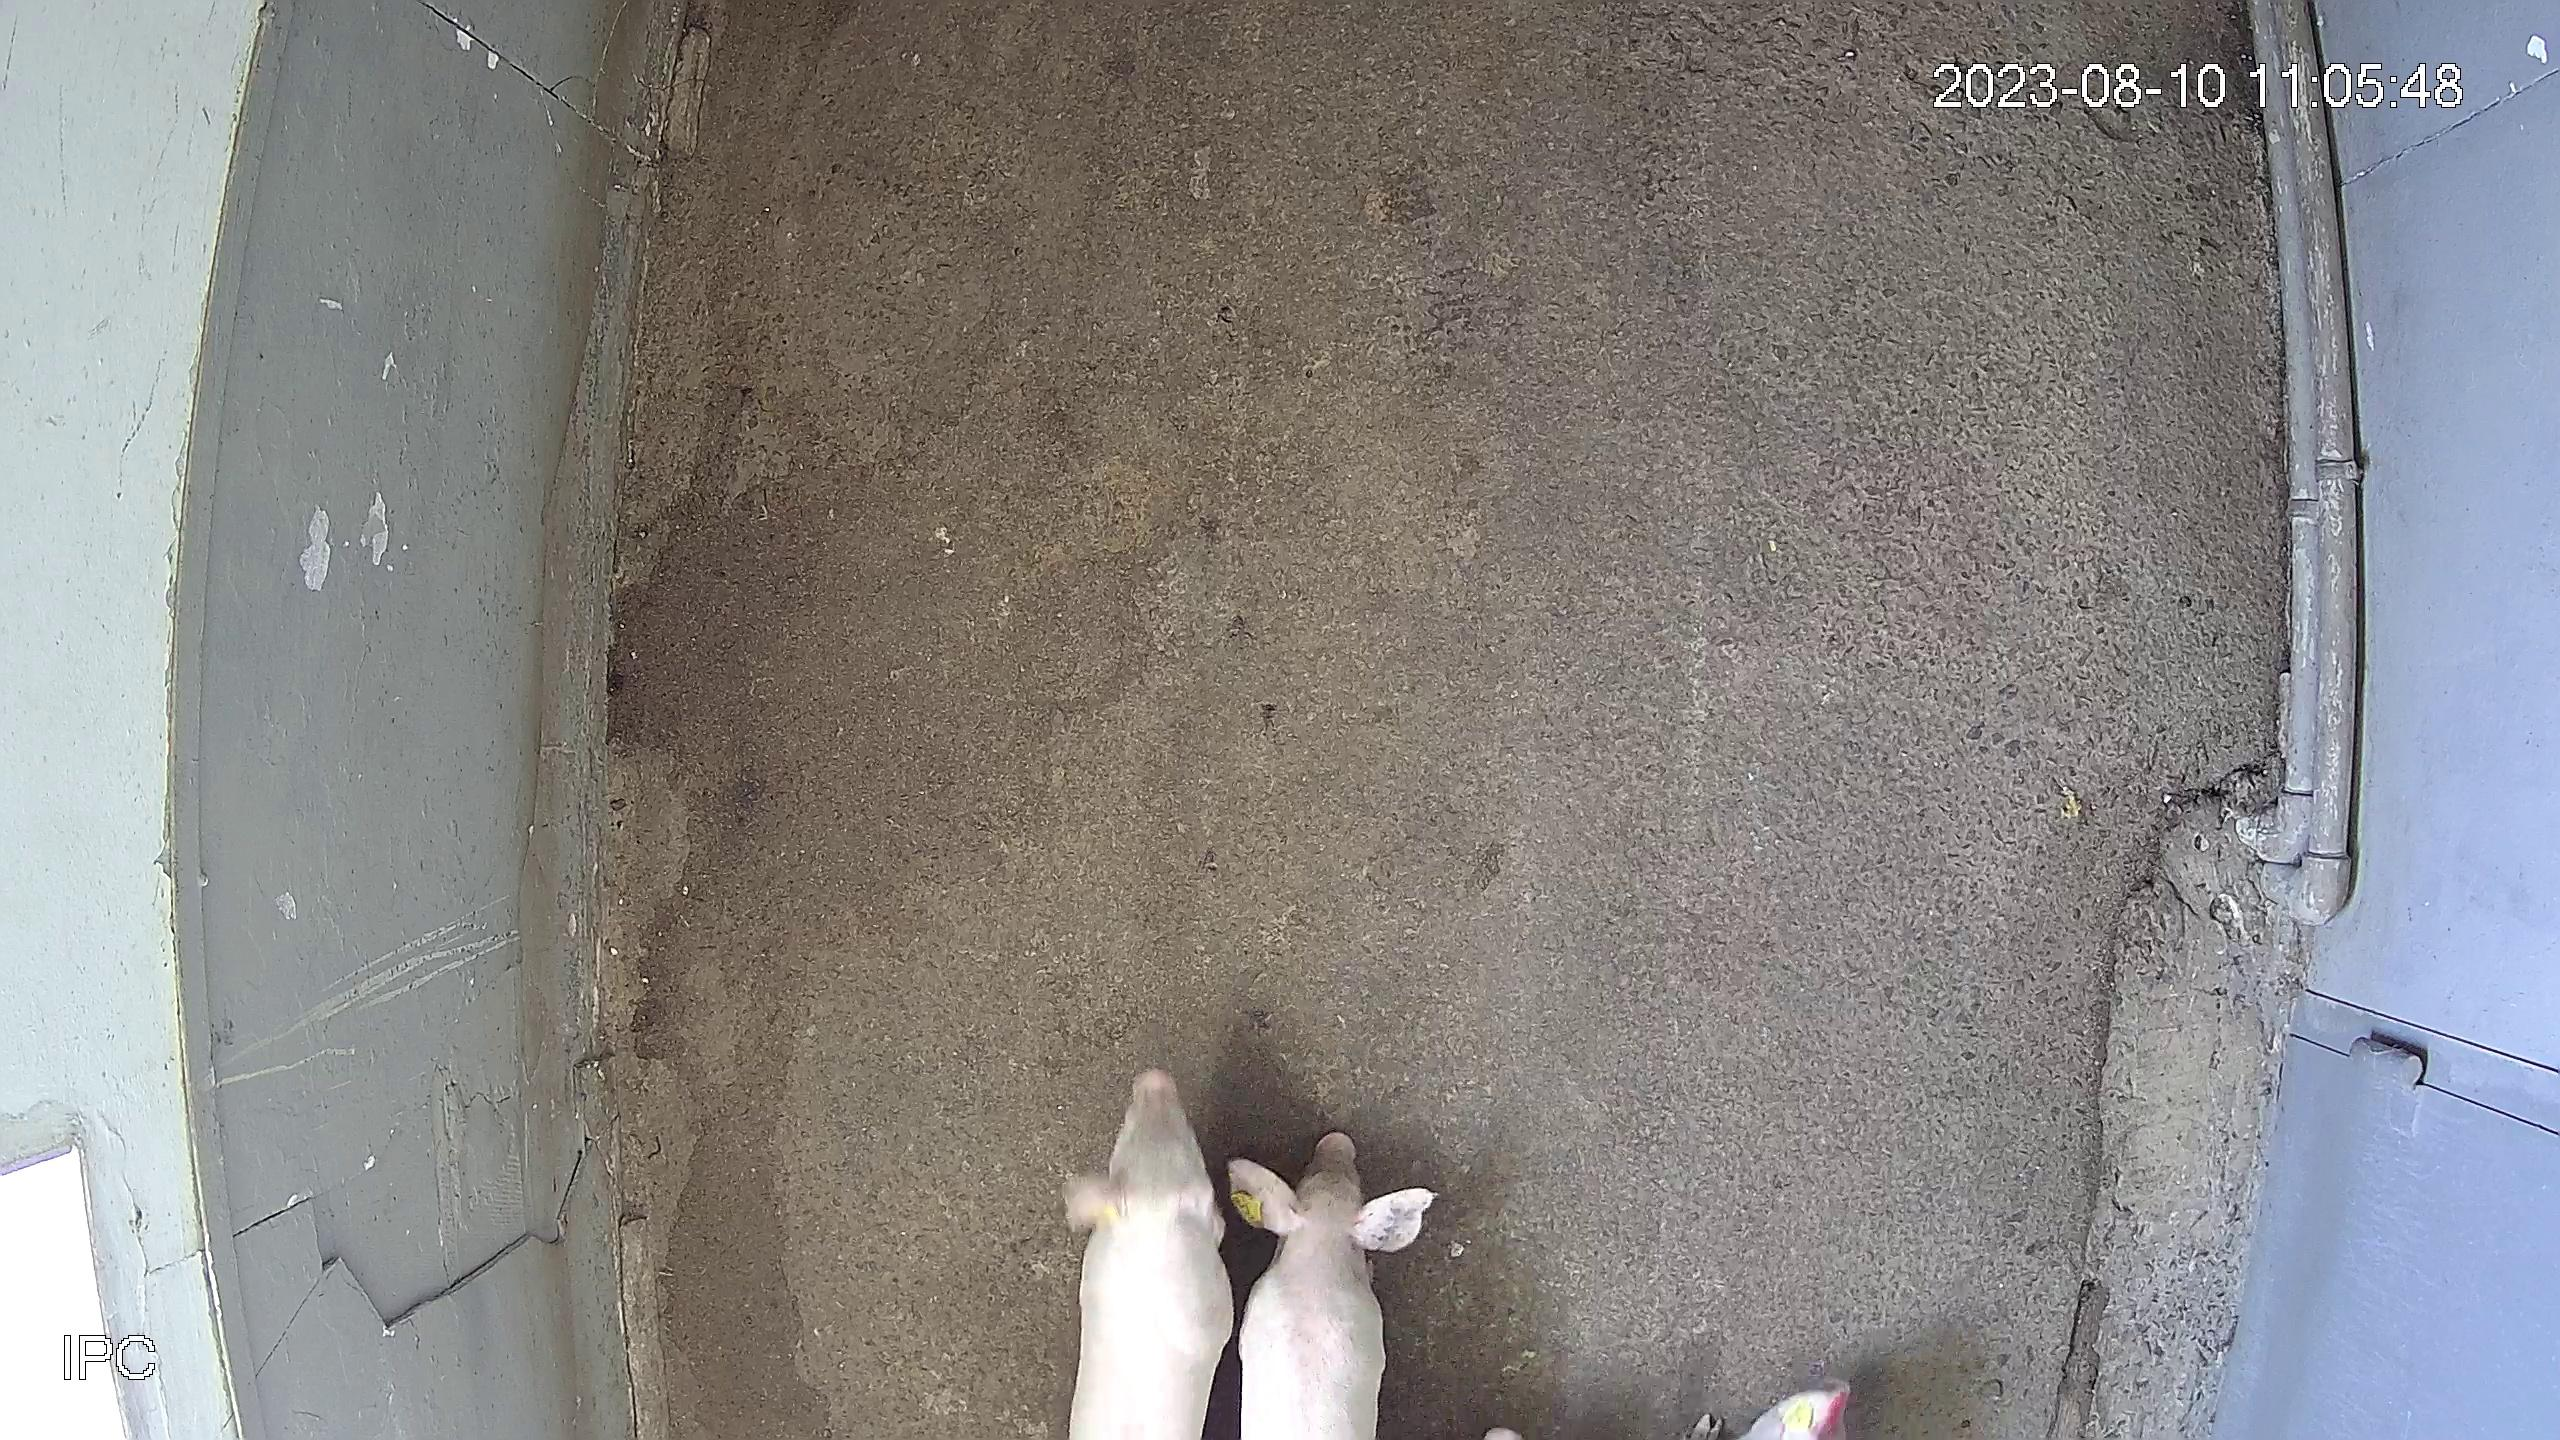Pig: (1228, 1132, 1436, 1440), (1066, 1069, 1232, 1440)
